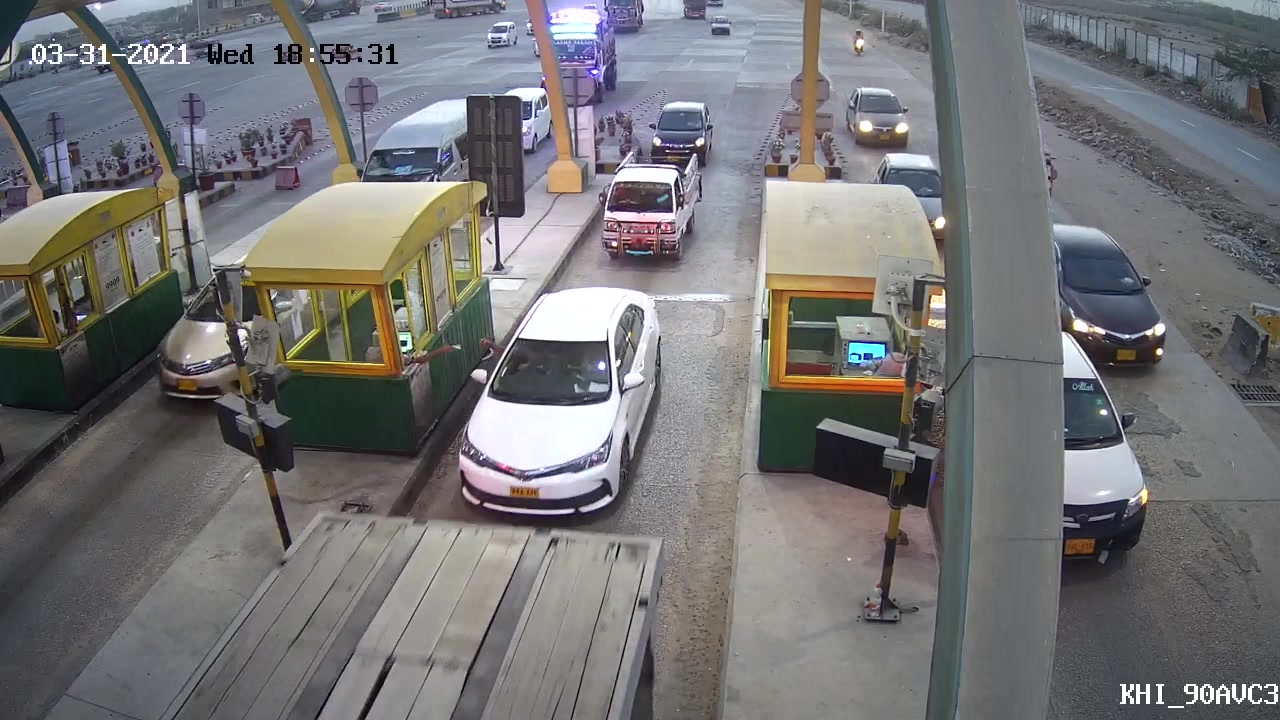F1: (447, 288, 667, 522)
F2: (596, 147, 703, 270)
